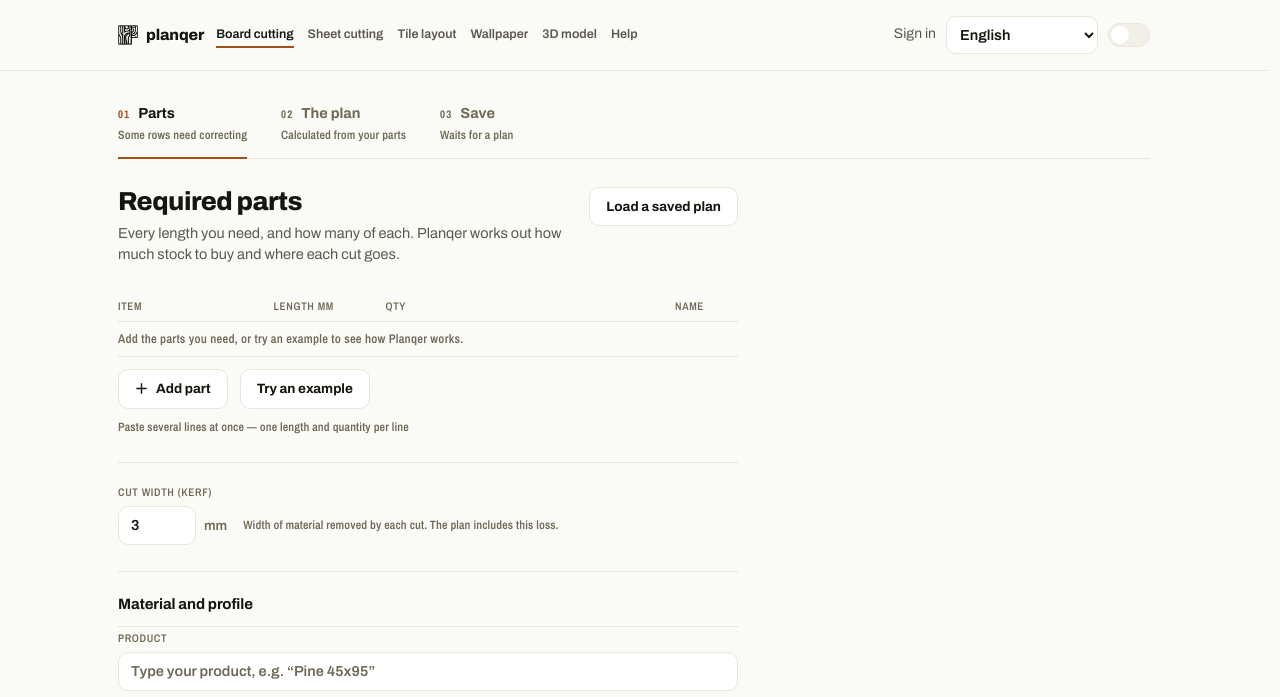
Test: CuttingOptimizer › restores a saved plan addressed by the edit query
Click the button "Try an example".
click(305, 389)  # box left=240, top=369, right=370, bottom=409
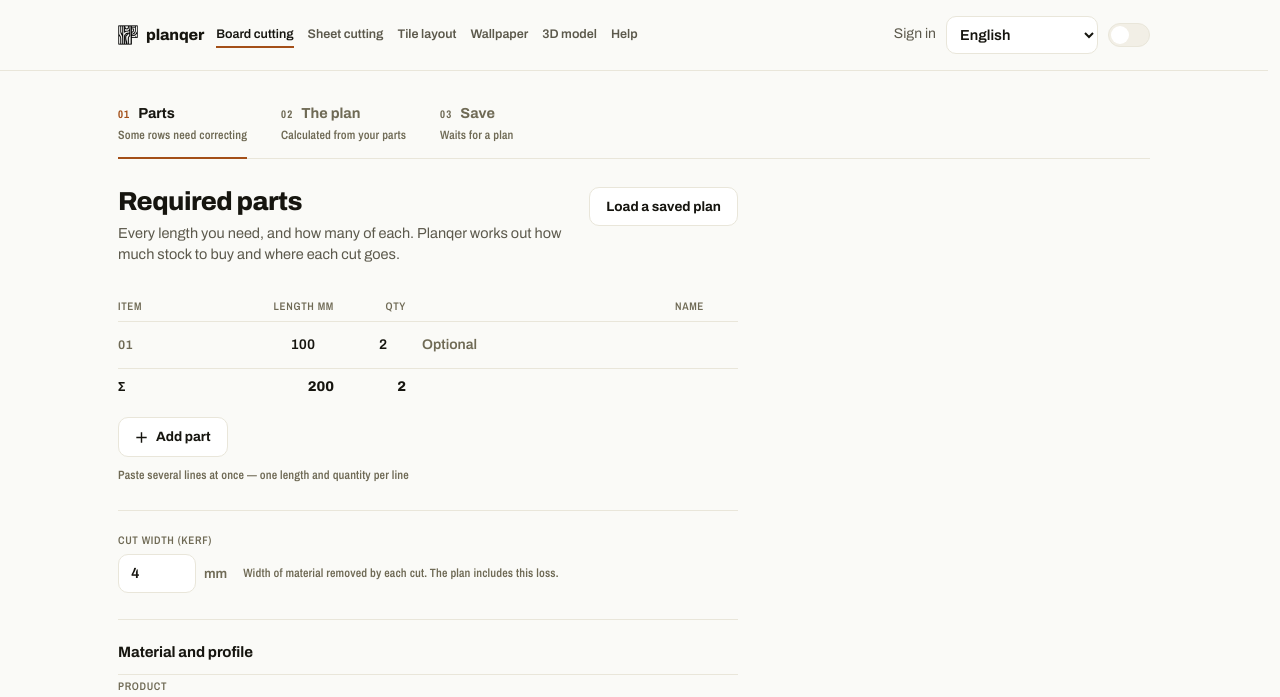
Result: the number field showing "100" is shown at left=238, top=330, right=334, bottom=360
Result: the number field showing "4" is shown at left=118, top=554, right=196, bottom=593
